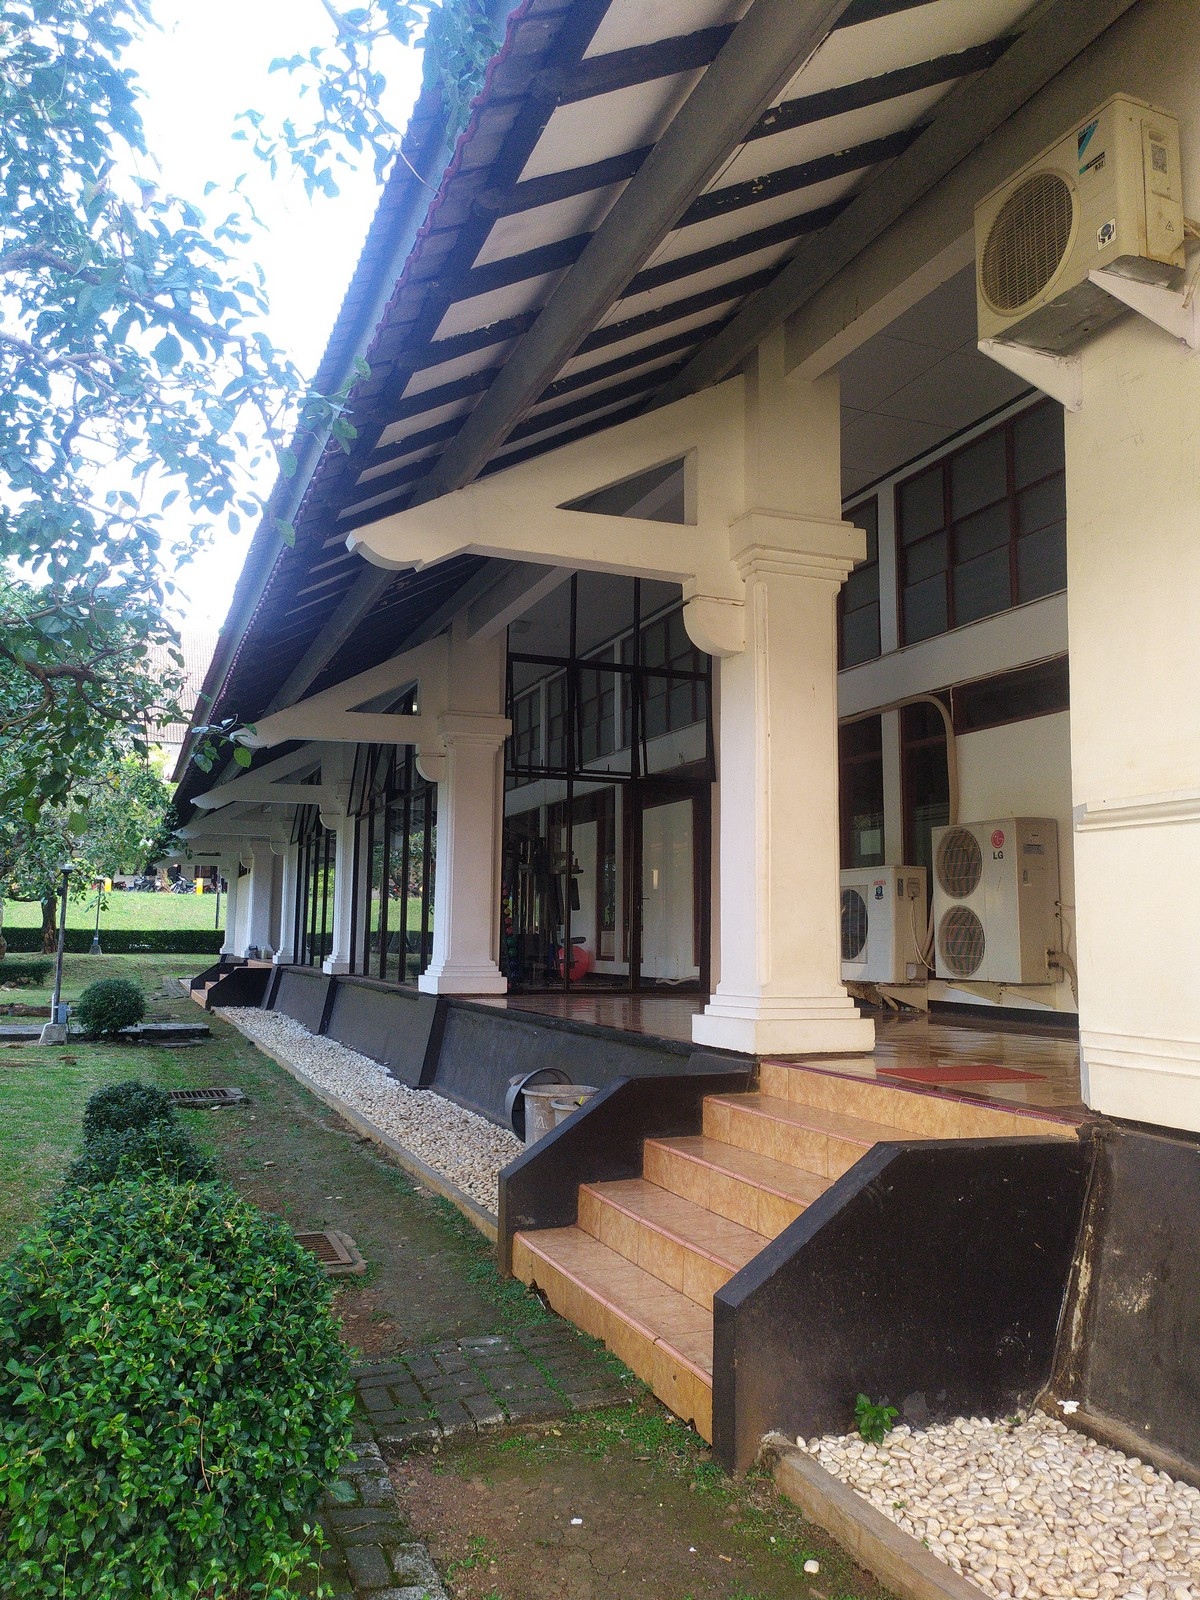concrete beam: (518, 506, 711, 593)
concrete column: (698, 562, 867, 1041), (422, 707, 505, 974)
